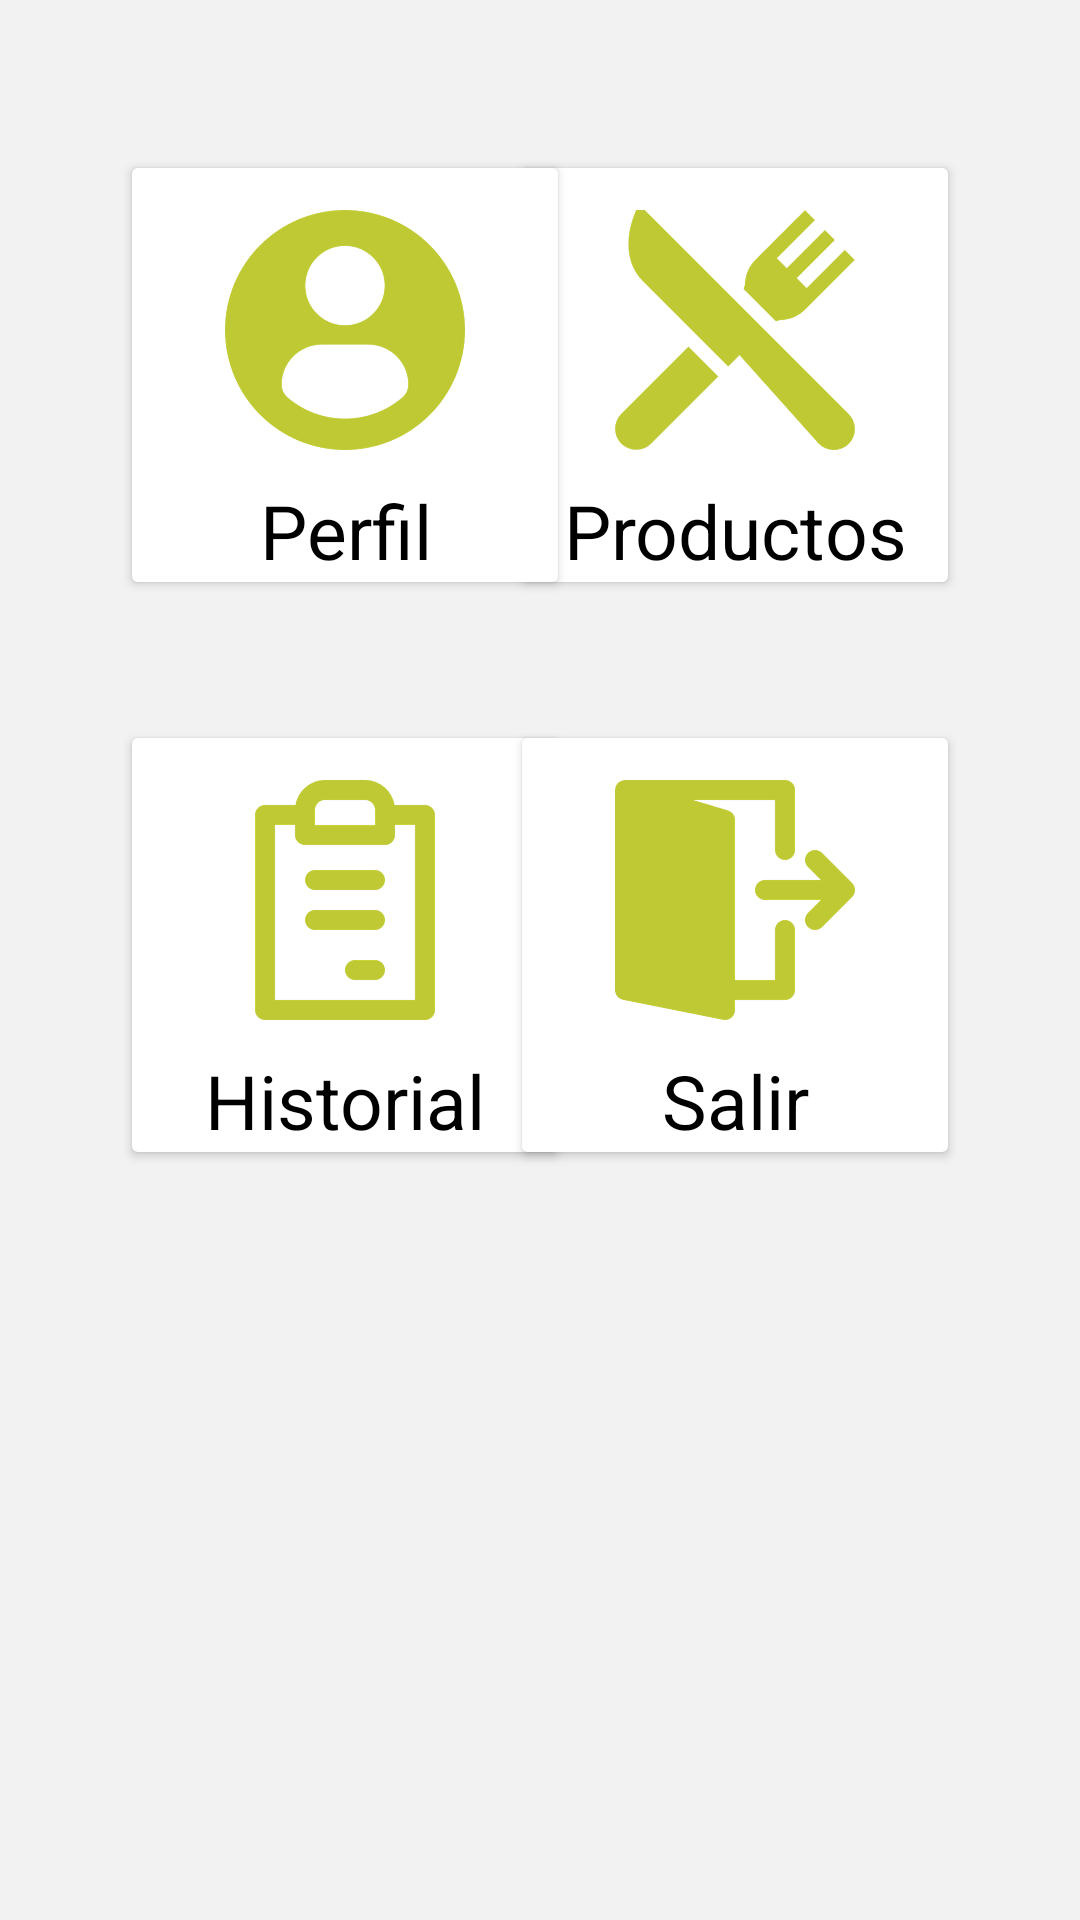

Locate icon controls on the screen. Image size 1080x1920, boxes as (x1, y1, x2, y2).
restaurante: (615, 210, 855, 450)
